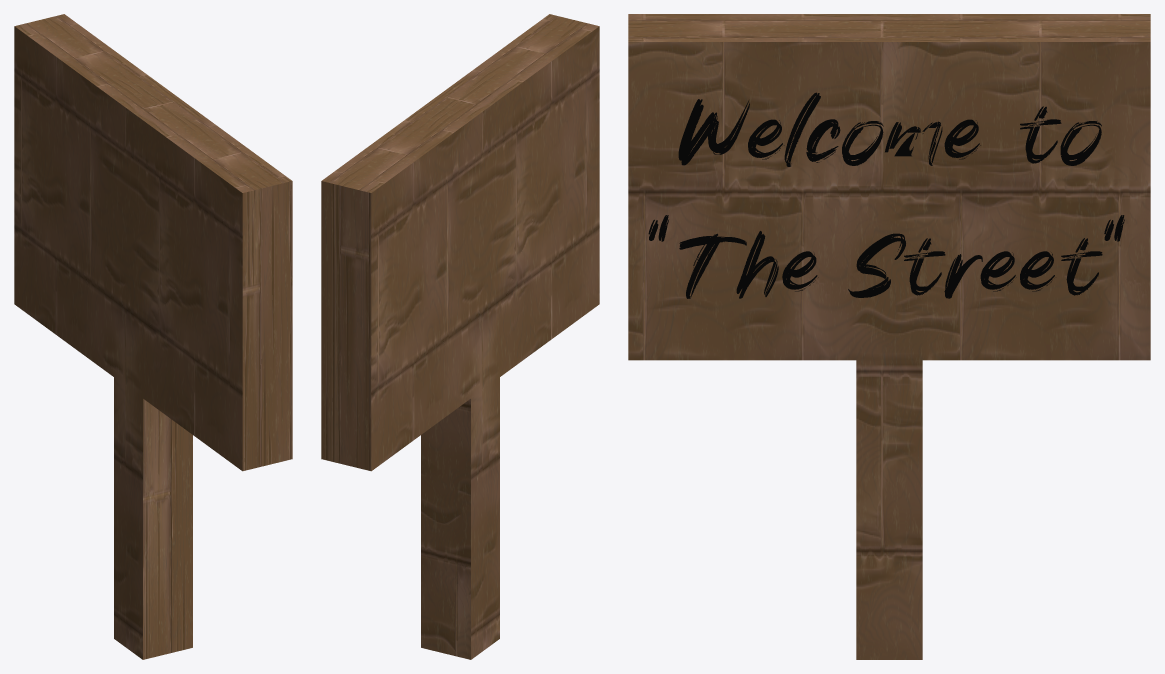
File: sign.fbx
The picture shows the model from 3 angles, left to right: view 1: azimuth 30°, elevation 25°; view 2: azimuth 150°, elevation 25°; view 3: azimuth 270°, elevation 25°; orthographic projection. The views are drawn at different scales.
Parts seen in each view (by area): view 1: Sign; view 2: Sign; view 3: Sign.
Part boxes in pixels (box(x1,y1,x2,y2)): Sign: box(14, 14, 292, 659); Sign: box(321, 14, 599, 659); Sign: box(628, 14, 1150, 659).
Bounding box in the file's own units: 41.2 × 413 × 316.
